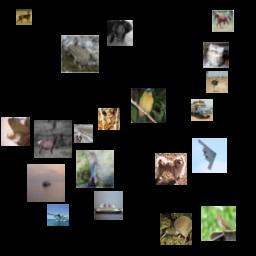airplane: (192, 138, 227, 173), (47, 204, 69, 226)
bird: (76, 150, 114, 188), (201, 206, 236, 241), (131, 88, 166, 123), (160, 213, 192, 245), (206, 71, 228, 93)
cat: (203, 42, 229, 68)
deer: (34, 120, 72, 158), (98, 108, 120, 130), (16, 9, 32, 25)
dog: (155, 153, 187, 185), (107, 20, 133, 46), (74, 124, 93, 143)
frog: (61, 35, 99, 73), (1, 117, 30, 146)
ship: (27, 164, 65, 202), (94, 191, 123, 220)
truck: (191, 99, 213, 121)
